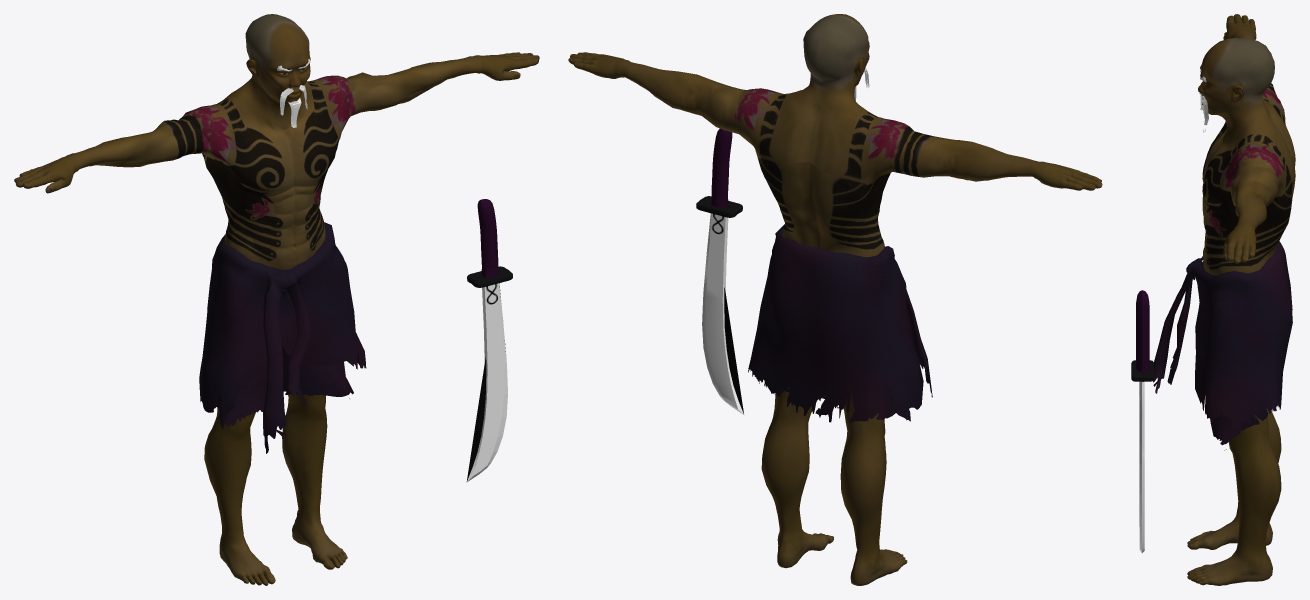
The model's file is modelo.fbx.
The picture shows the model from 3 angles, left to right: view 1: azimuth 30°, elevation 25°; view 2: azimuth 150°, elevation 25°; view 3: azimuth 270°, elevation 25°; orthographic projection. The views are drawn at different scales.
Visible parts, largest first — view 1: cuerpo, pant2, espada; view 2: cuerpo, pant2, espada; view 3: cuerpo, pant2, espada.
Part boxes in pixels (x1=…): cuerpo: x1=14, y1=14, x2=539, y2=585; pant2: x1=199, y1=222, x2=366, y2=453; espada: x1=466, y1=199, x2=512, y2=482; cuerpo: x1=568, y1=14, x2=1102, y2=585; pant2: x1=748, y1=224, x2=932, y2=422; espada: x1=696, y1=128, x2=743, y2=414; cuerpo: x1=1187, y1=14, x2=1295, y2=585; pant2: x1=1153, y1=241, x2=1292, y2=450; espada: x1=1131, y1=290, x2=1154, y2=552.
Size of the model in its own units: 164 by 162 by 46.22.
